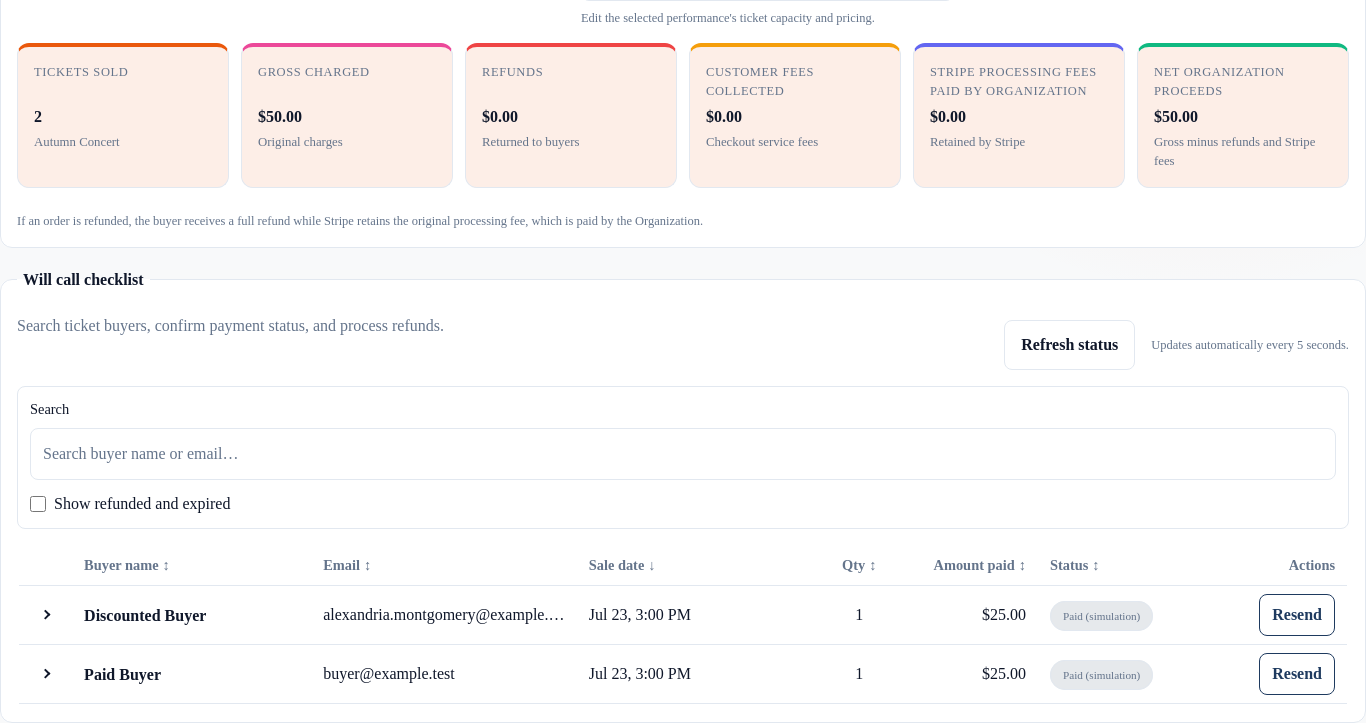
Test case: WillCallPanel discount codes › shows the discount snapshot in expanded details
The width and height of the screenshot is (1366, 723).
(page scrolled)
Expected: the column heading "Discount code" is not shown
Click the button named "Show details for Discounted Buyer".
click(46, 615)  # box [30,599,62,631]
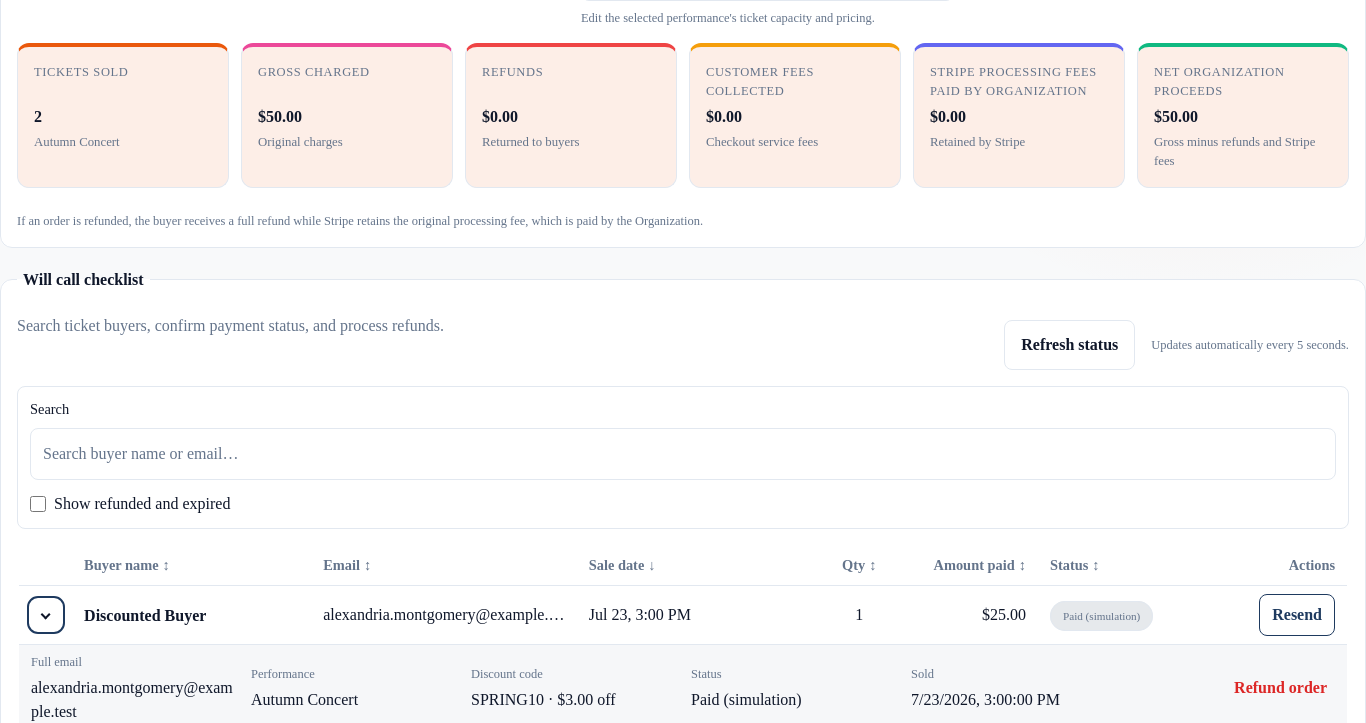
Result: the text "SPRING10 · $3.00 off" is shown at [471,691,616,708]
